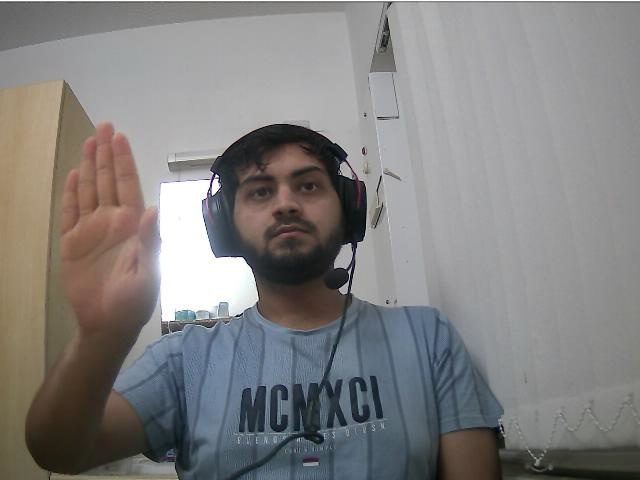up: (58, 121, 159, 307)
